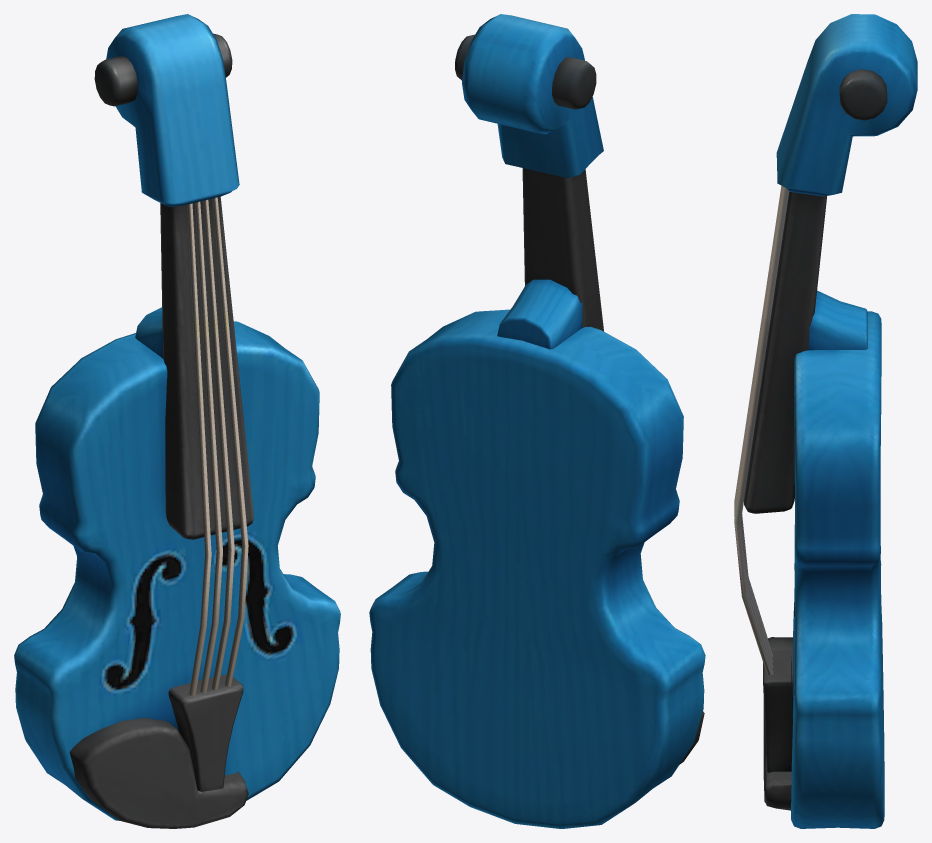
Rendered from 0-violin_blue.fbx.
The picture shows the model from 3 angles, left to right: view 1: azimuth 30°, elevation 25°; view 2: azimuth 150°, elevation 25°; view 3: azimuth 270°, elevation 25°; orthographic projection. The views are drawn at different scales.
Visible parts, largest first — view 1: 0-violin_blue; view 2: 0-violin_blue; view 3: 0-violin_blue.
Part boxes in pixels (<box>): 0-violin_blue: <box>14,14,340,828</box>; 0-violin_blue: <box>369,14,705,828</box>; 0-violin_blue: <box>734,14,917,828</box>.
Size of the model in its own units: 38.71 by 97.64 by 20.79.
